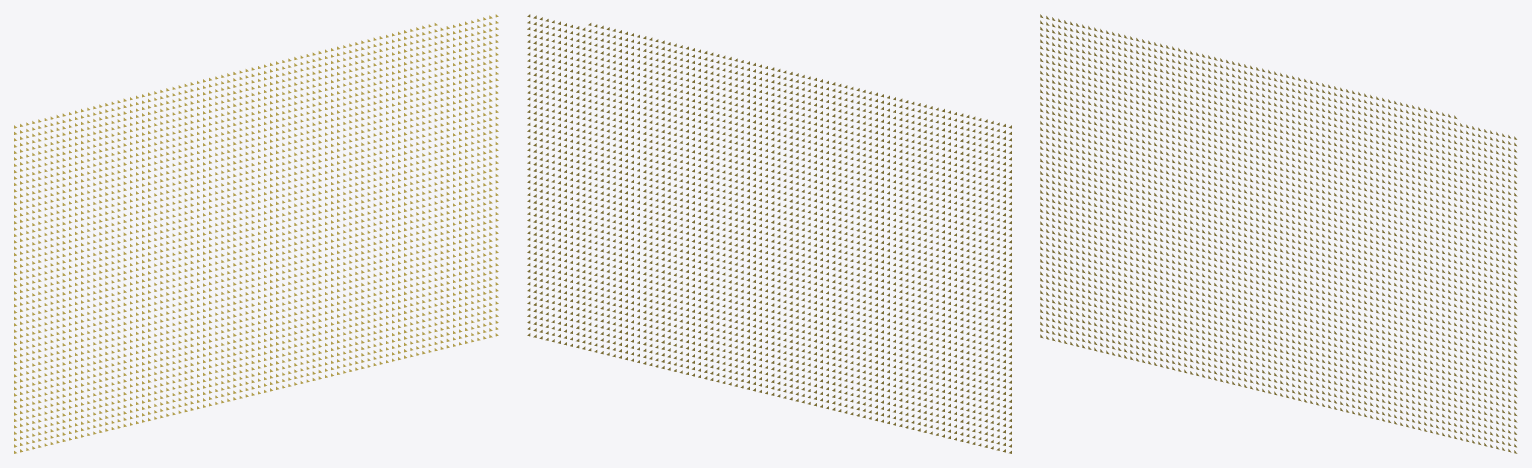
3 renders of one model, left to right at view 1: azimuth 30°, elevation 25°; view 2: azimuth 150°, elevation 25°; view 3: azimuth 330°, elevation 25°, orthographic.
Visible parts, largest first — view 1: scene-5_props; view 2: scene-5_props; view 3: scene-5_props.
Part boxes in pixels (left/top/right/bottom): scene-5_props: left=14, top=14, right=498, bottom=453; scene-5_props: left=527, top=14, right=1011, bottom=453; scene-5_props: left=1040, top=14, right=1517, bottom=453.
Bounding box in the file's own units: 1.43 × 0.928 × 0.
